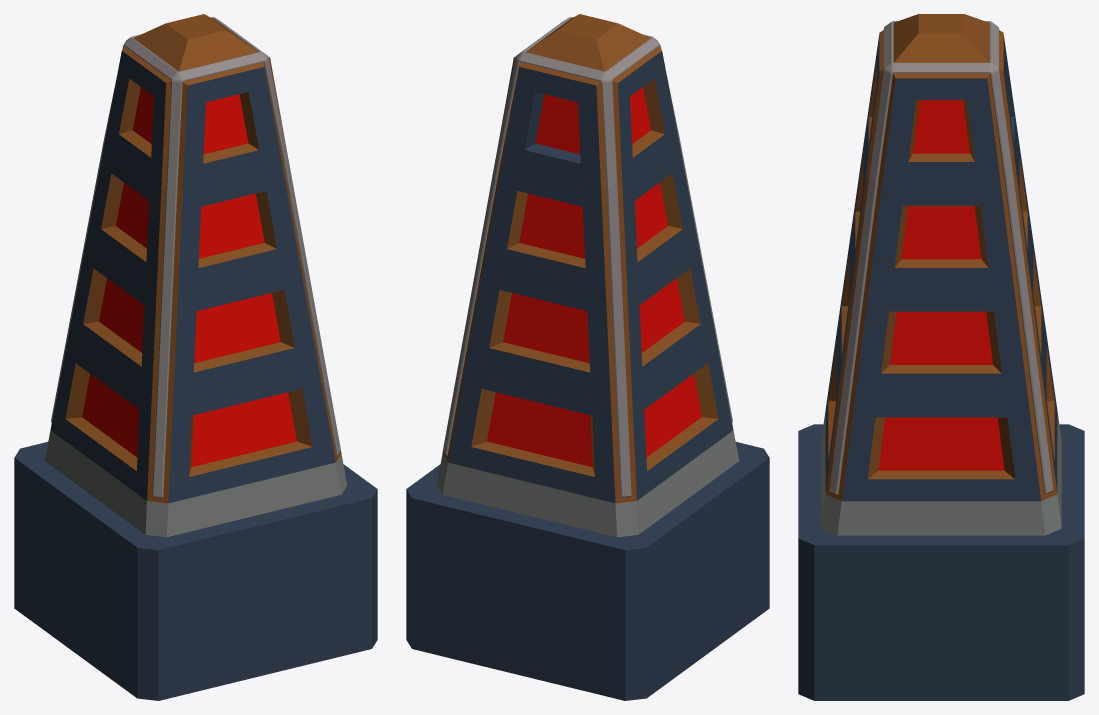
File: Vertical Weakpoint.fbx
3 views of the same model, side by side, from view 1: azimuth 30°, elevation 25°; view 2: azimuth 150°, elevation 25°; view 3: azimuth 270°, elevation 25° (orthographic). The views are drawn at different scales.
Visible parts, largest first — view 1: Weakpoint Tall; view 2: Weakpoint Tall; view 3: Weakpoint Tall.
Part boxes in pixels (x1,y1,x2,y2): Weakpoint Tall: (14,14,377,700); Weakpoint Tall: (406,14,769,700); Weakpoint Tall: (798,14,1084,700).
Size of the model in its own units: 25 by 25 by 59.4.
